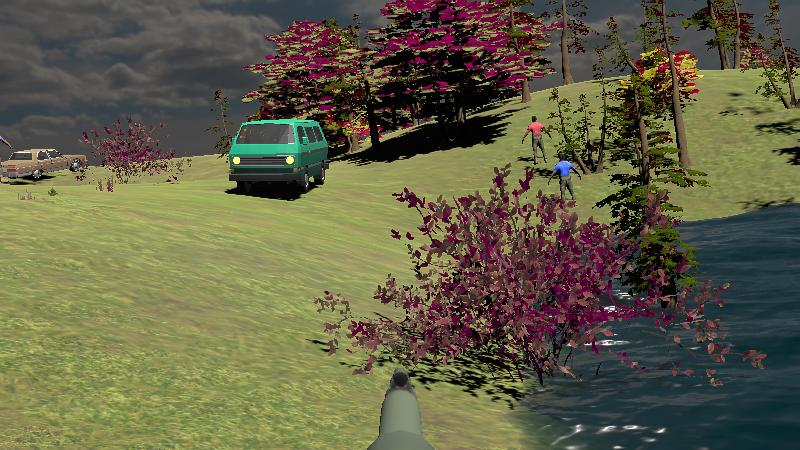Human: (549, 151, 582, 208), (522, 115, 551, 165)
car: (228, 118, 328, 196), (1, 148, 86, 182)
